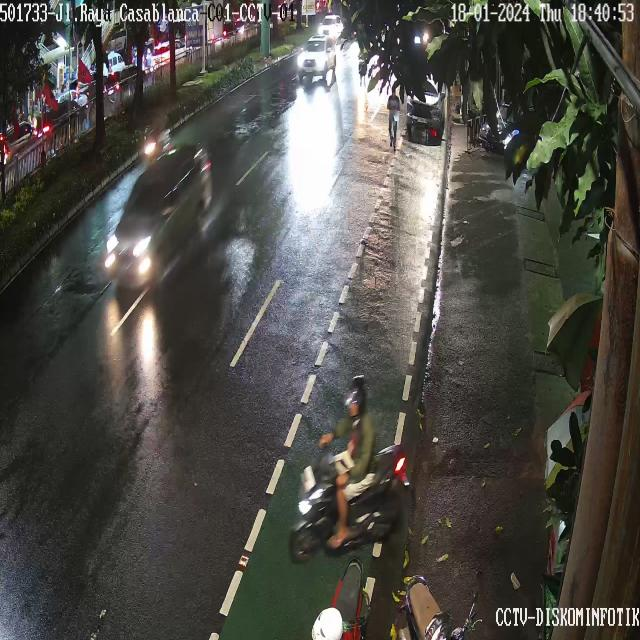Payung: (538, 384, 597, 495), (545, 290, 599, 388)
